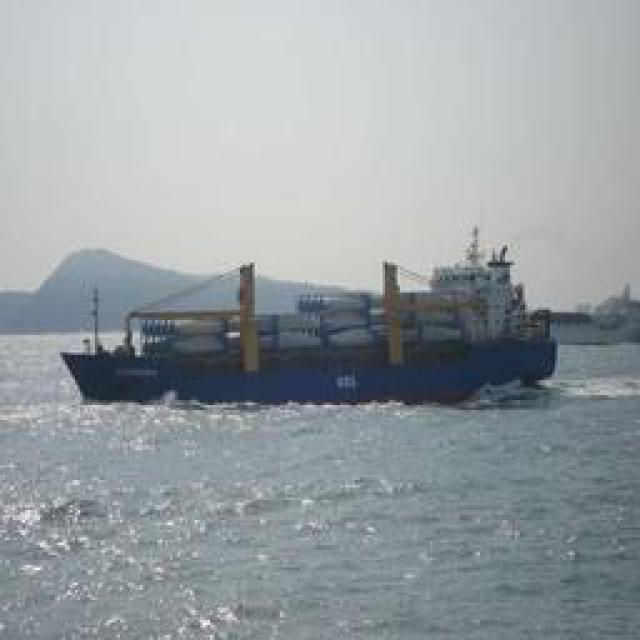Ship: (71, 234, 549, 409)
